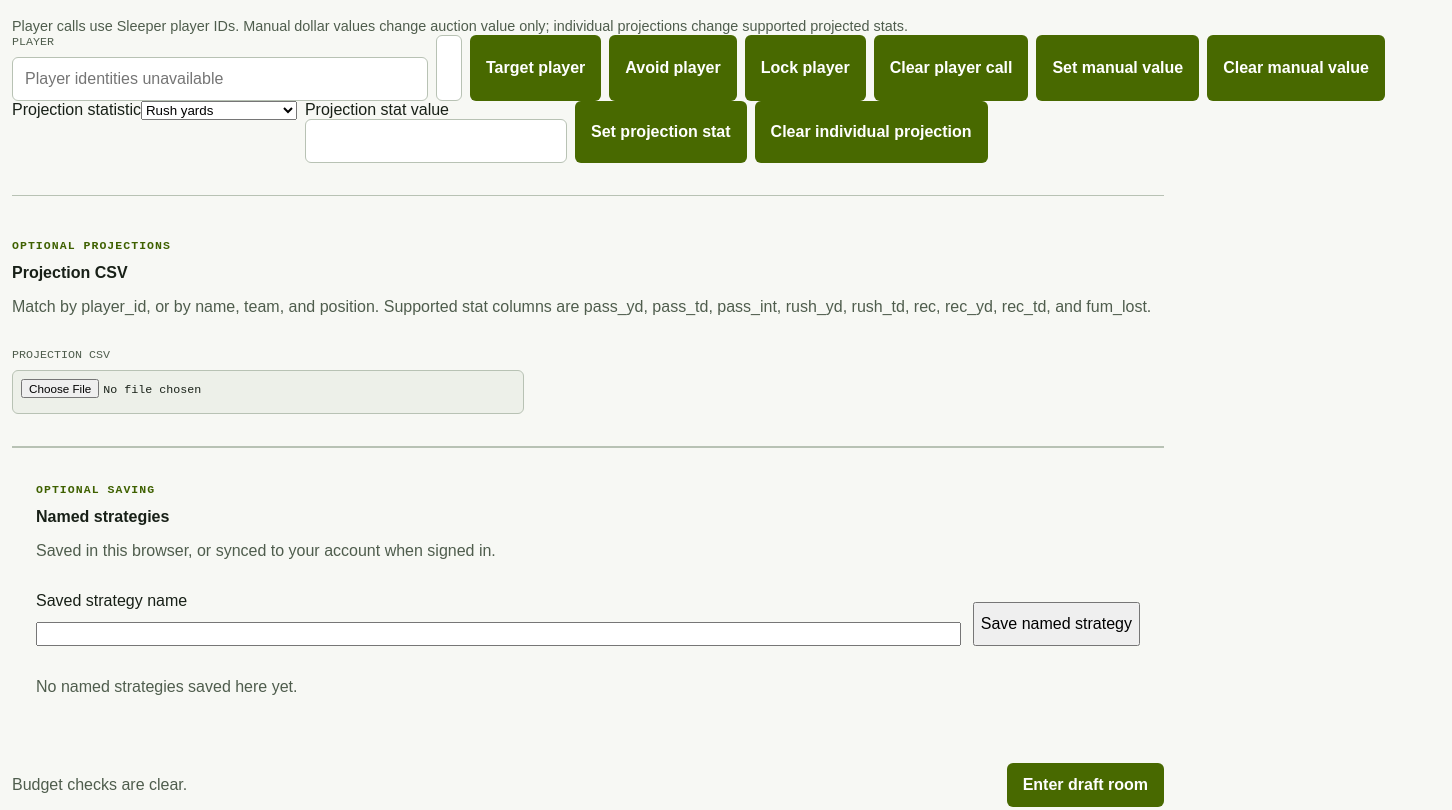
Scenario: StrategyBuilder auth transitions › shows the stable cloud quota message
(page scrolled)
Type "Plan 51" into the field labelled "Saved strategy name" at (498, 634), box [36,622,961,646]
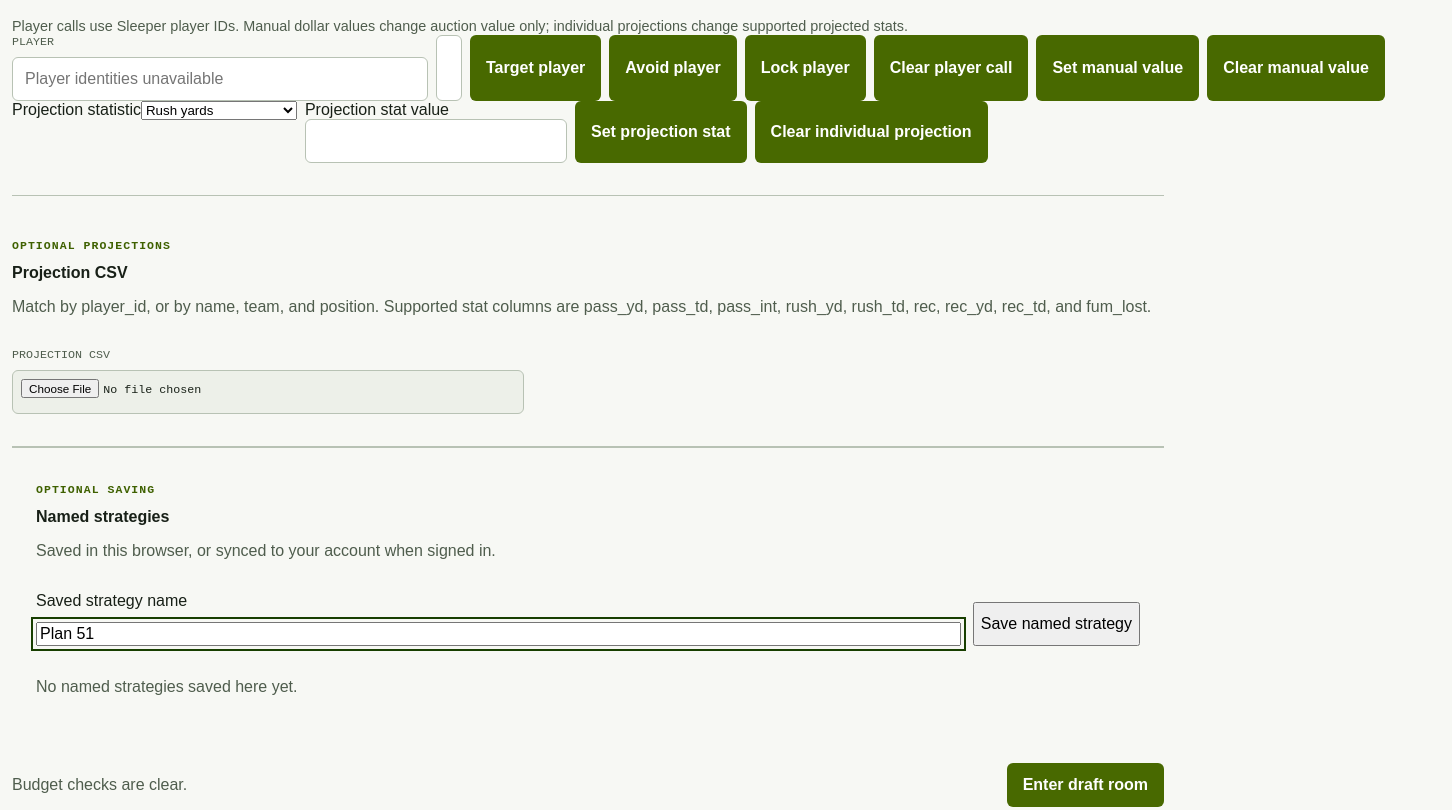
Click the button "Save named strategy" at (1056, 624), box [973,602,1140,646]
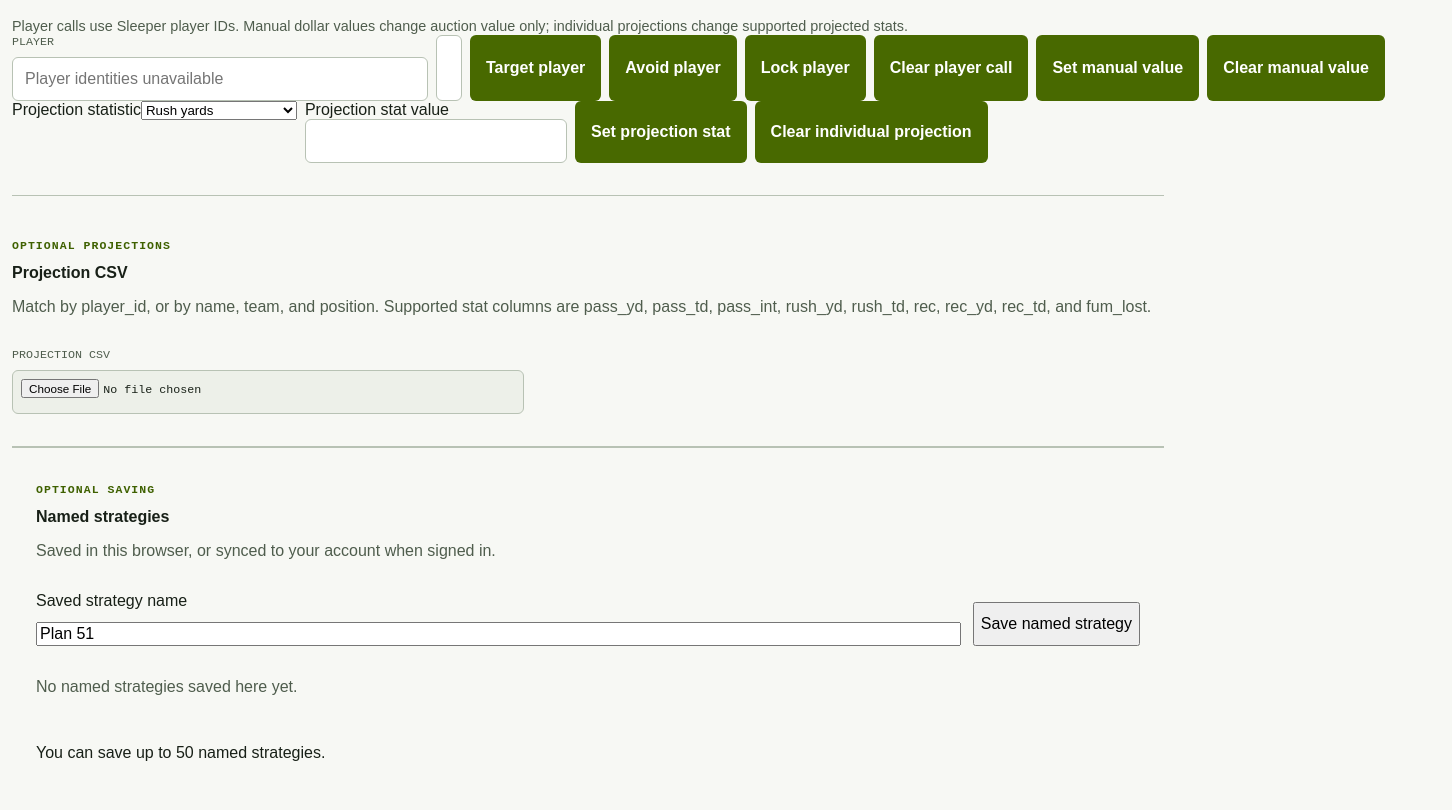
Expected: the message reads "You can save up to 50 named strategies.", [36,744,325,761]
